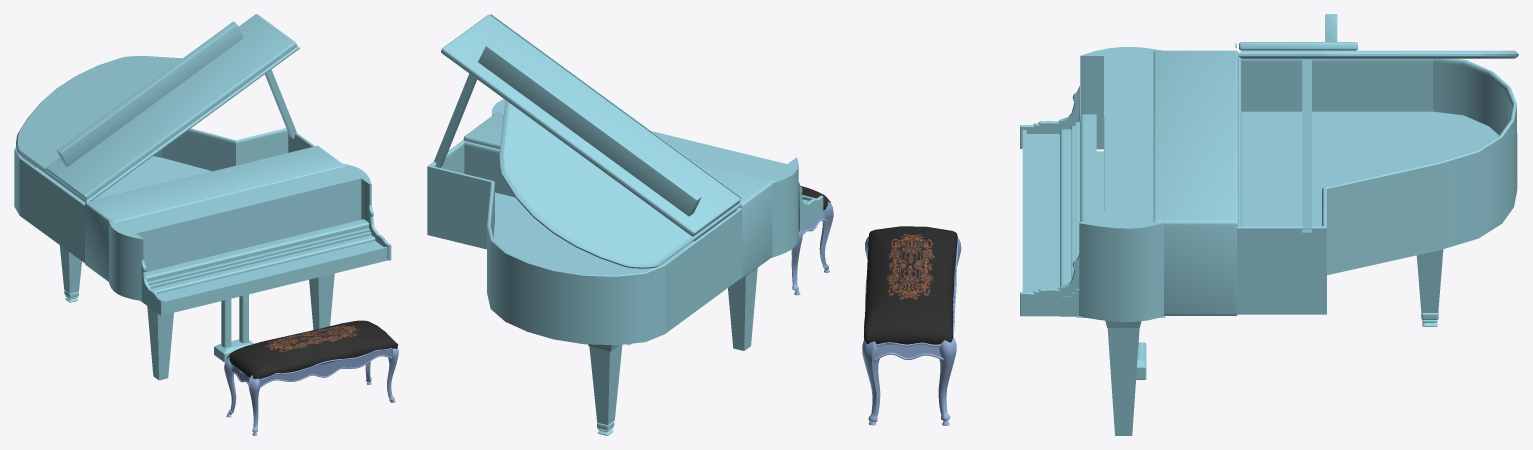
File: pianoThree.obj
3 renders of one model, left to right at view 1: azimuth 30°, elevation 25°; view 2: azimuth 150°, elevation 25°; view 3: azimuth 270°, elevation 25°, orthographic. The views are drawn at different scales.
Visible parts, largest first — view 1: ChamferBox03, Object04dd, ChamferBox01, Object05ff, Object01dd, Object03ss, Loft02, Line01, Loft05; view 2: ChamferBox03, Object04dd, Object05ff, Loft02; view 3: ChamferBox03, ChamferBox01, Object01dd, Object05ff, Object04dd, Loft02, Line04.
Part boxes in pixels (left/top/right/bottom): ChamferBox03: left=14, top=69, right=391, bottom=316; Object04dd: left=16, top=14, right=299, bottom=202; ChamferBox01: left=227, top=320, right=397, bottom=379; Object05ff: left=59, top=245, right=334, bottom=380; Object01dd: left=157, top=241, right=383, bottom=300; Object03ss: left=214, top=294, right=253, bottom=362; Loft02: left=224, top=347, right=398, bottom=435; Line01: left=260, top=349, right=392, bottom=386; Loft05: left=259, top=348, right=393, bottom=387; ChamferBox03: left=427, top=73, right=823, bottom=345; Object04dd: left=441, top=14, right=741, bottom=268; Object05ff: left=588, top=267, right=757, bottom=430; Loft02: left=791, top=201, right=833, bottom=295; ChamferBox03: left=1020, top=47, right=1517, bottom=321; ChamferBox01: left=864, top=226, right=957, bottom=344; Object01dd: left=1026, top=134, right=1059, bottom=291; Object05ff: left=1105, top=249, right=1443, bottom=435; Object04dd: left=1235, top=14, right=1518, bottom=58; Loft02: left=862, top=237, right=961, bottom=425; Line04: left=876, top=344, right=941, bottom=357.
Size of the model in its own units: 1746 by 1821 by 2666.
